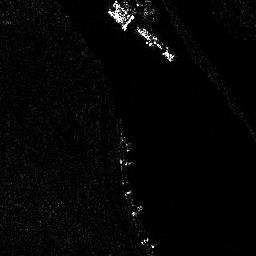ship: (137, 26, 175, 61)
